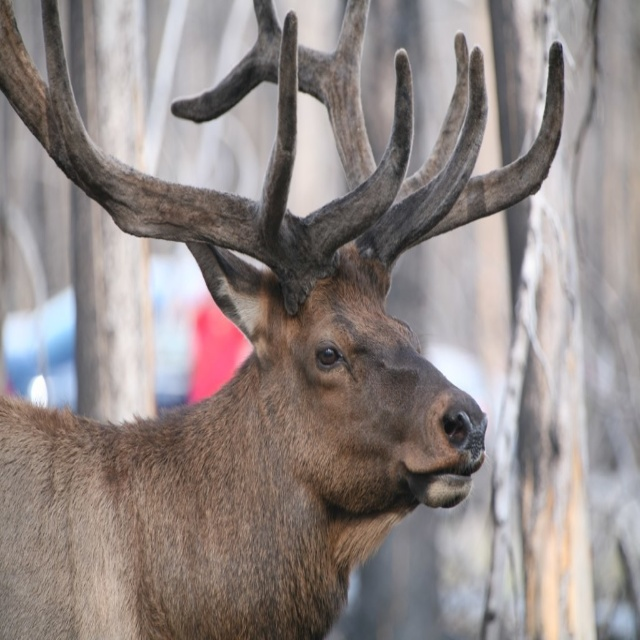Deer: (0, 0, 564, 632)
